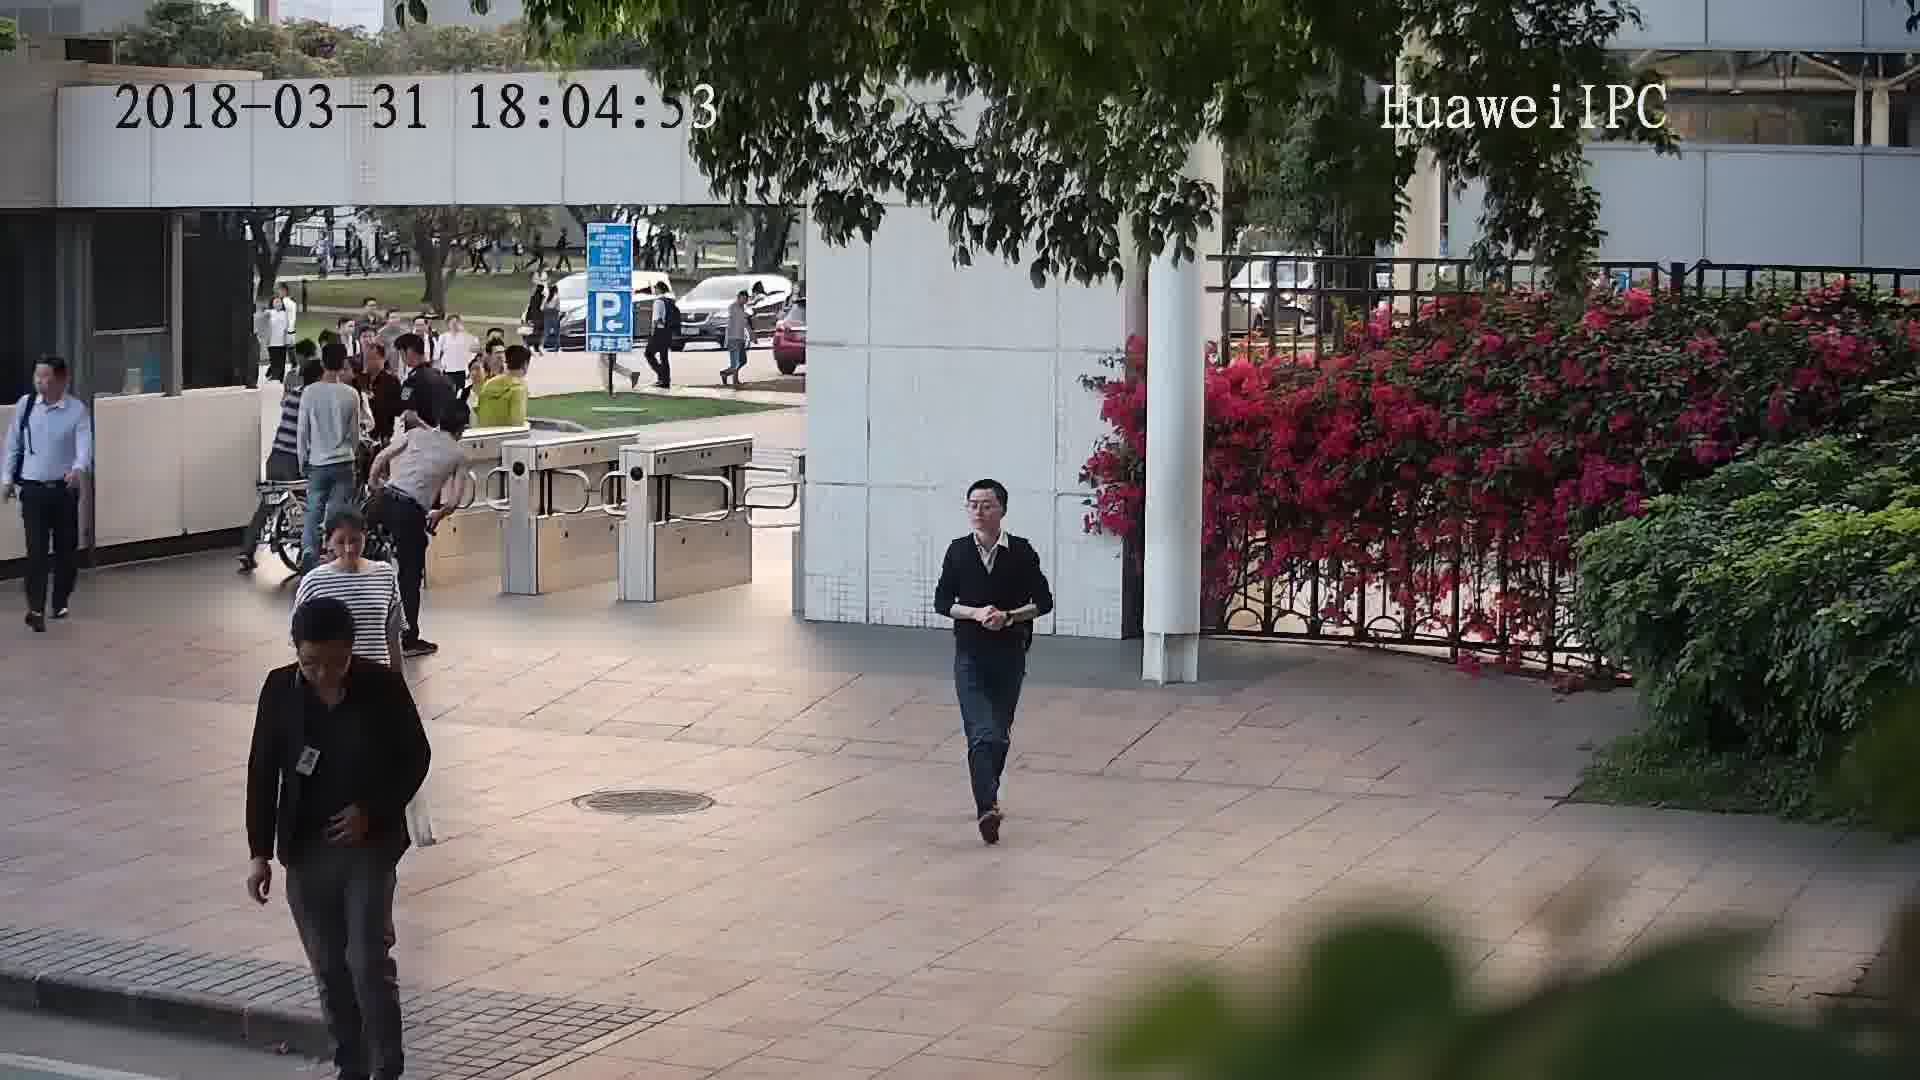face: (296, 633, 352, 689), (318, 523, 368, 571), (959, 483, 1003, 533)
person: (254, 592, 405, 718), (943, 473, 1038, 575), (301, 505, 394, 596), (16, 352, 91, 425), (398, 394, 467, 451), (300, 347, 361, 410), (397, 329, 449, 389), (361, 334, 401, 395), (491, 343, 535, 391), (372, 309, 414, 348), (407, 309, 441, 353), (335, 312, 362, 352), (274, 282, 305, 316), (650, 276, 676, 307), (270, 293, 293, 323), (733, 286, 754, 314), (311, 229, 334, 247)
